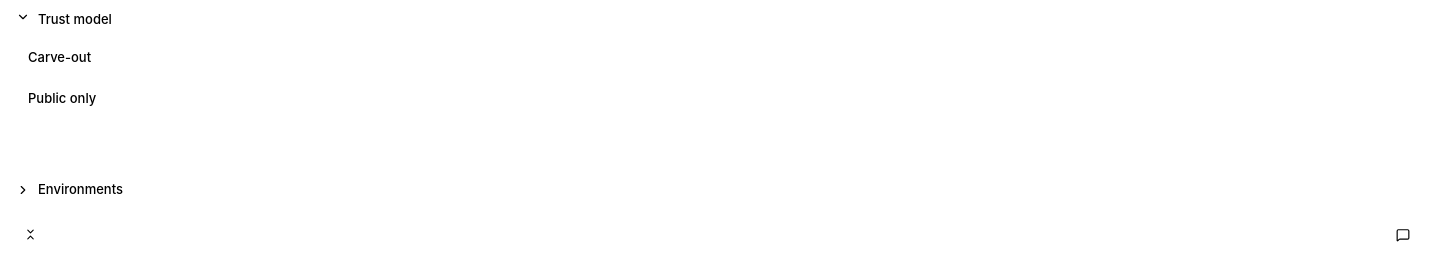
Test: QuestionCard — collapsing › auto-folds an answered question and opens the next unanswered one
Click the button "Carve-out" at (60, 56), box [16,40,1424,75]
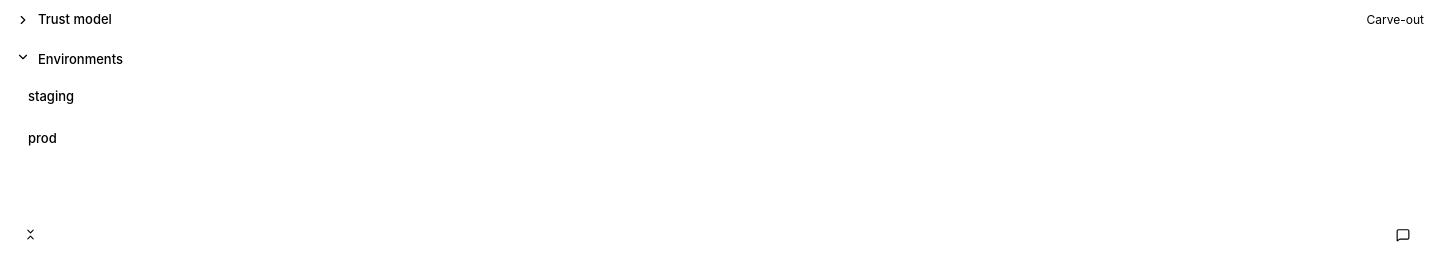
Result: the button "Public only" is gone
Result: the text "staging" is shown at [28,88,74,104]
